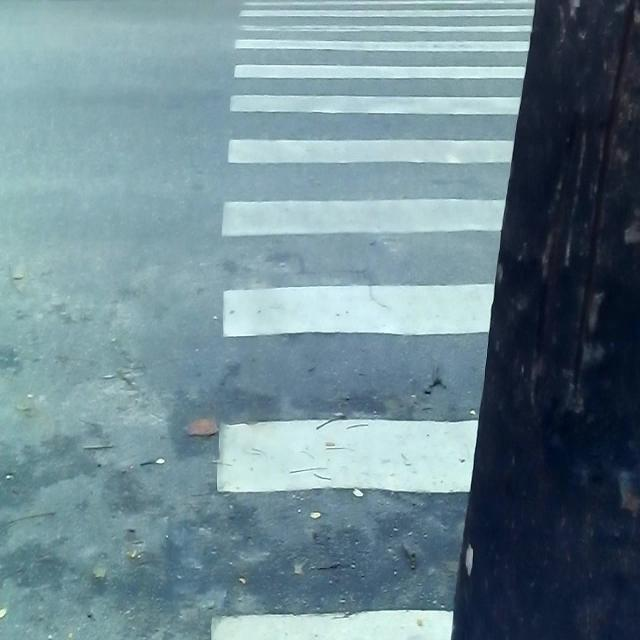crosswalk: (191, 0, 536, 640)
